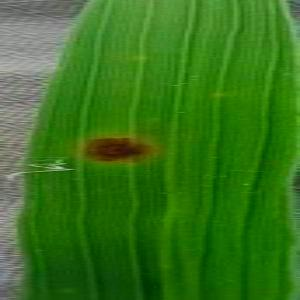0 BrownSpot: (63, 121, 162, 175)
